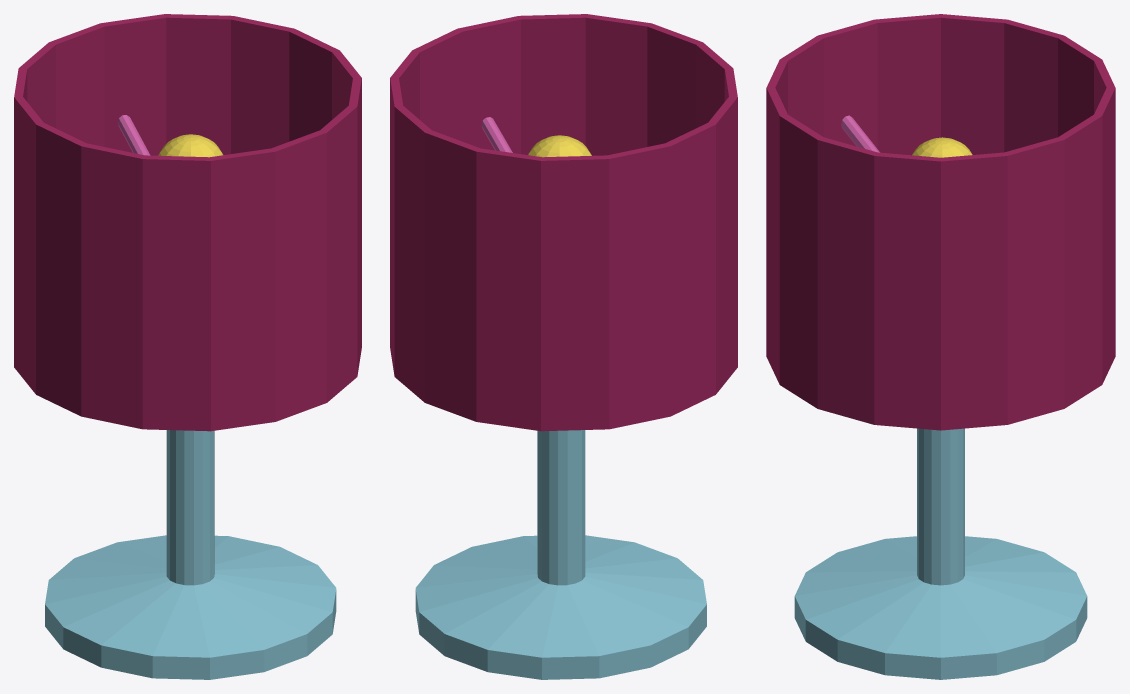
Rendered from RoundLampshade.fbx.
The picture shows the model from 3 angles, left to right: view 1: azimuth 30°, elevation 25°; view 2: azimuth 150°, elevation 25°; view 3: azimuth 270°, elevation 25°; orthographic projection.
Visible parts, largest first — view 1: RoundLampshade; view 2: RoundLampshade; view 3: RoundLampshade.
Boxes of the visible parts, left/top/right/bottom form: RoundLampshade: left=14, top=14, right=361, bottom=679; RoundLampshade: left=390, top=14, right=737, bottom=679; RoundLampshade: left=766, top=14, right=1115, bottom=679.
Bounding box in the file's own units: 239 × 399 × 239.
